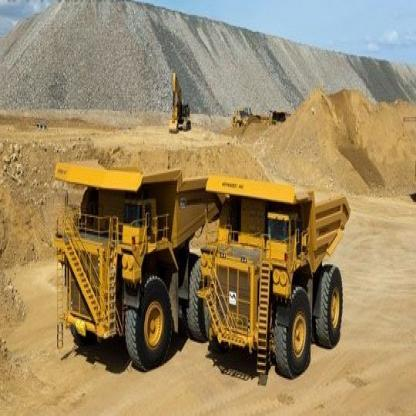dump_truck: (49, 141, 207, 375), (203, 166, 349, 382)
excavator: (166, 60, 196, 136)
